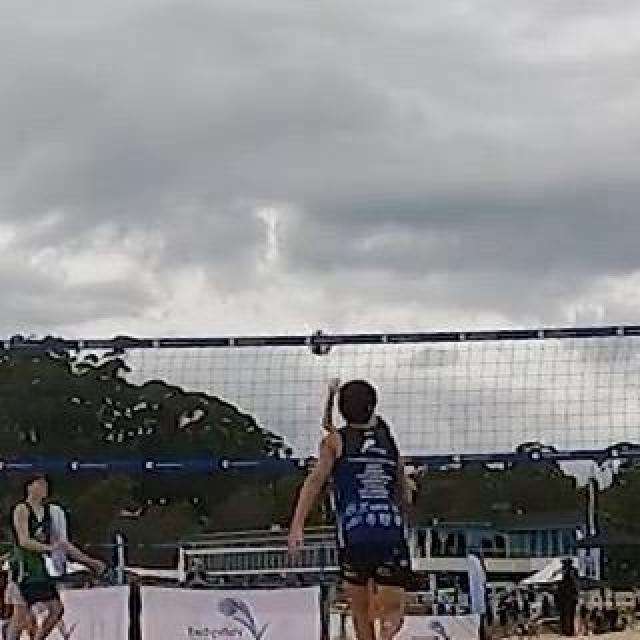volleyball: (312, 330, 332, 356)
